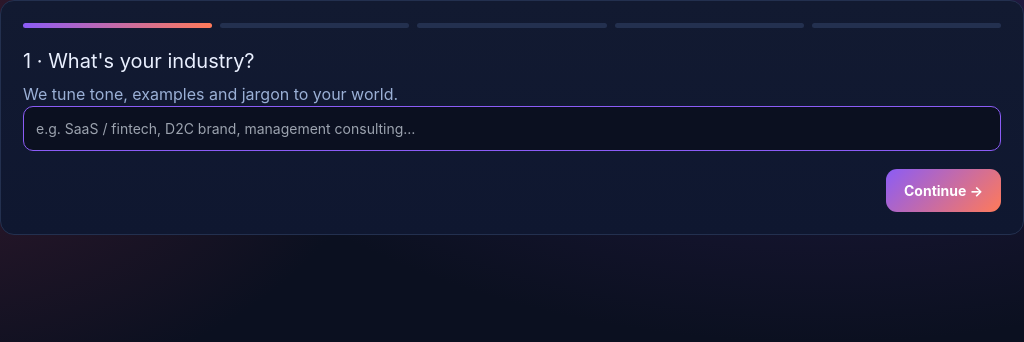
Test: <OnboardingWizard> › advances to seniority once an industry is typed
Type "SaaS / fintech" into the field at (512,128), box [23,106,1001,151]
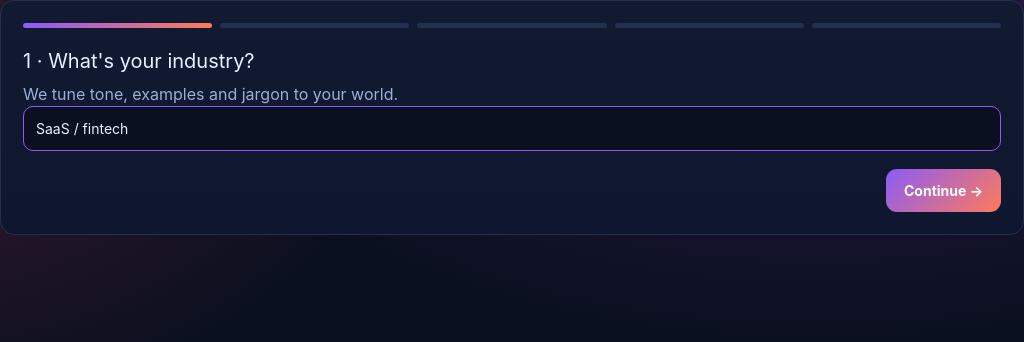
Click the button "Continue →" at (944,190), box [886,169,1001,212]
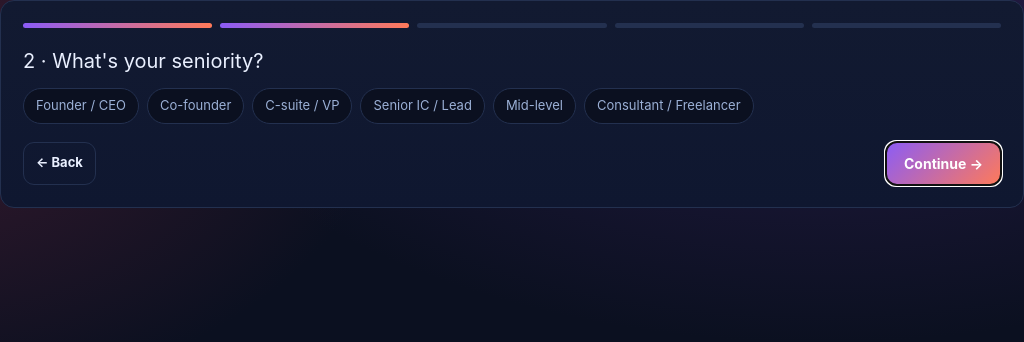
Expected: the heading shows "seniority", [23,49,263,73]
Expected: the button "Founder / CEO" is shown, [23,88,139,124]
